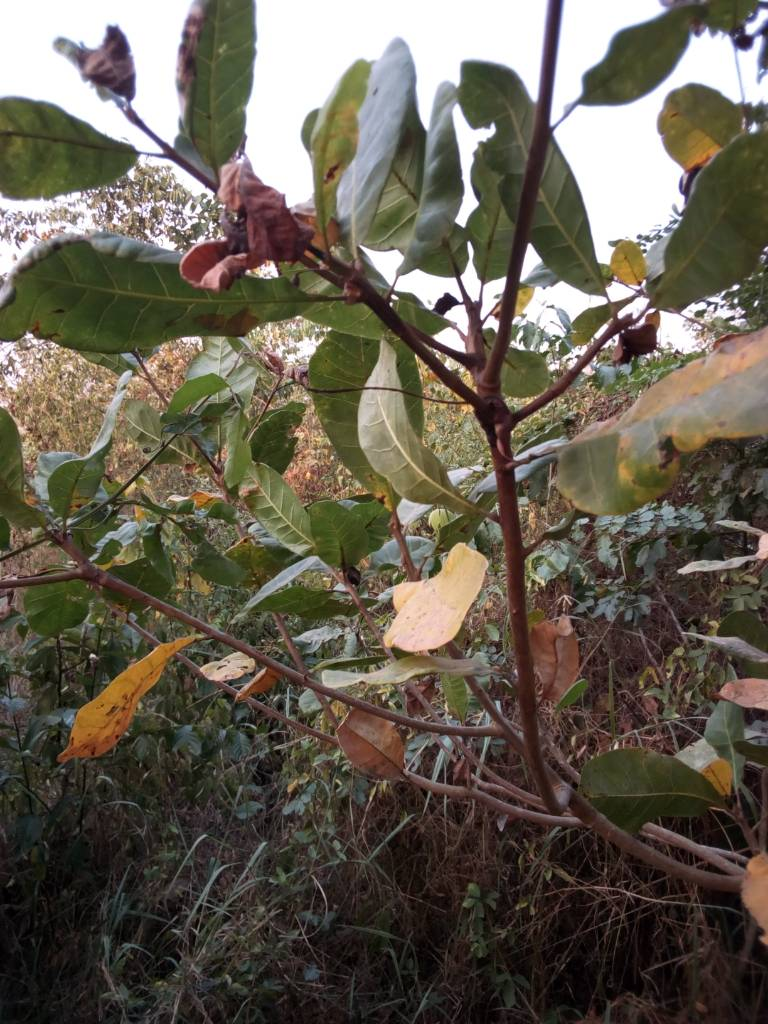Dessèchement des bourgeons: (177, 153, 354, 294), (65, 19, 147, 130)
